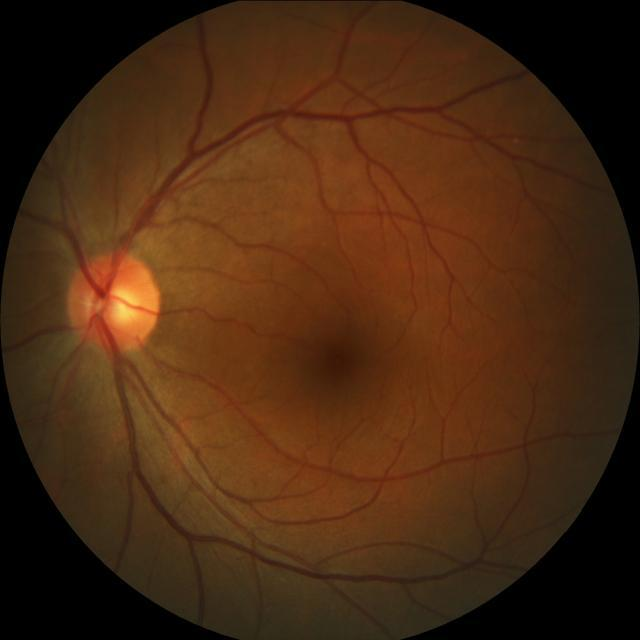OC: (90, 286, 138, 323)
OD: (64, 249, 158, 354)
